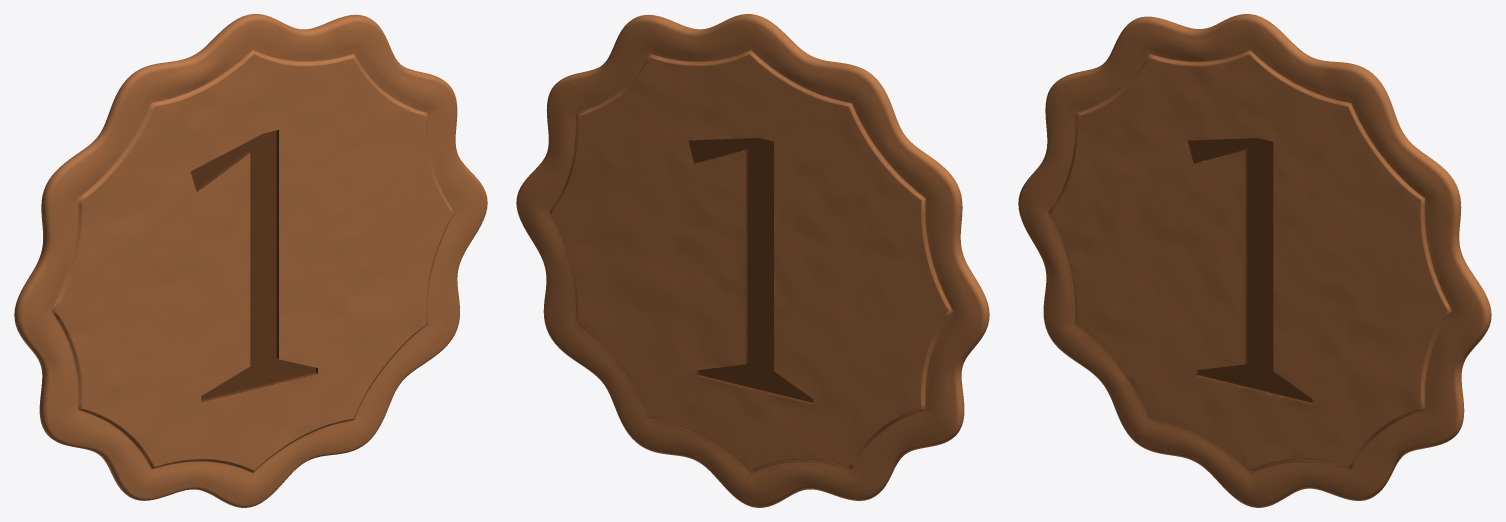
File: badge-1.glb
The picture shows the model from 3 angles, left to right: view 1: azimuth 30°, elevation 25°; view 2: azimuth 150°, elevation 25°; view 3: azimuth 330°, elevation 25°; orthographic projection.
Visible parts, largest first — view 1: badge_body, digit_1_front; view 2: badge_body, digit_1_front; view 3: badge_body, digit_1_front.
Part boxes in pixels (x1,y1,x2,y2): badge_body: [14, 14, 487, 507]; digit_1_front: [190, 130, 317, 402]; badge_body: [516, 14, 989, 507]; digit_1_front: [686, 138, 813, 404]; badge_body: [1018, 14, 1491, 507]; digit_1_front: [1185, 138, 1312, 404].
Bounding box in the file's own units: 0.2585 × 0.2575 × 0.00991.
